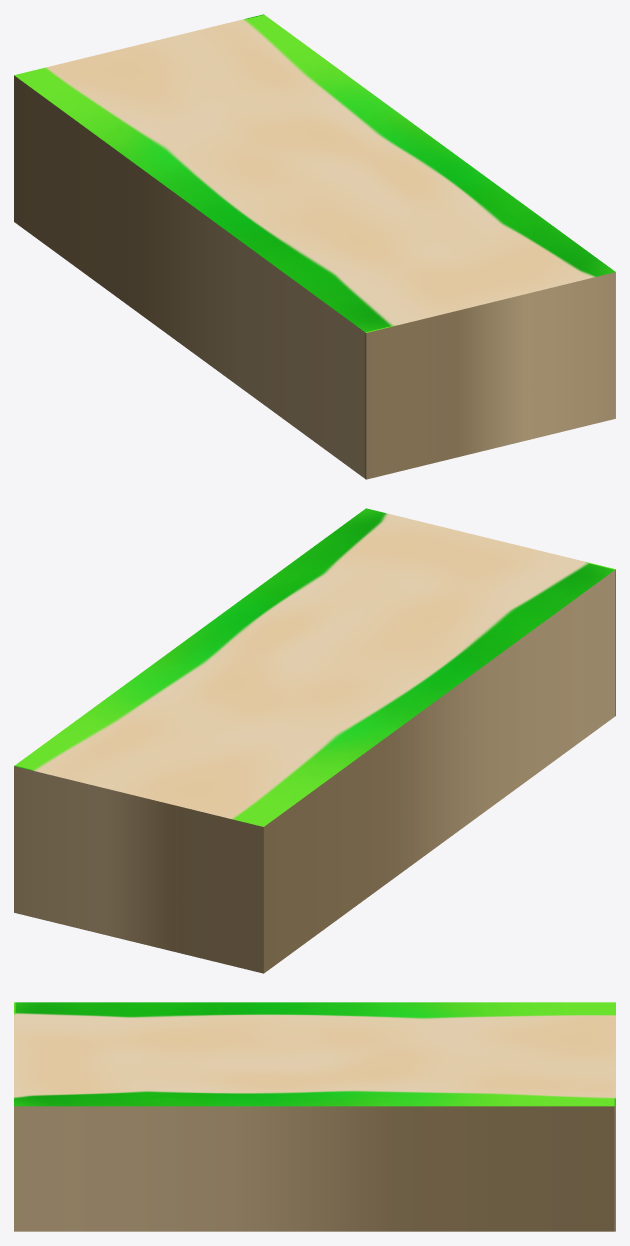
The model's file is S2_gruond_center.fbx.
3 renders of one model, top to bottom at view 1: azimuth 30°, elevation 25°; view 2: azimuth 150°, elevation 25°; view 3: azimuth 270°, elevation 25°, orthographic. The views are drawn at different scales.
Parts seen in each view (by area): view 1: stage2_3_base; view 2: stage2_3_base; view 3: stage2_3_base.
Boxes of the visible parts, <box> form: stage2_3_base: <box>14,14,615,479</box>; stage2_3_base: <box>14,508,615,973</box>; stage2_3_base: <box>14,1002,615,1231</box>.
Bounding box in the file's own units: 3.75 × 2.11 × 9.17.
2 materials, 2 textured.
